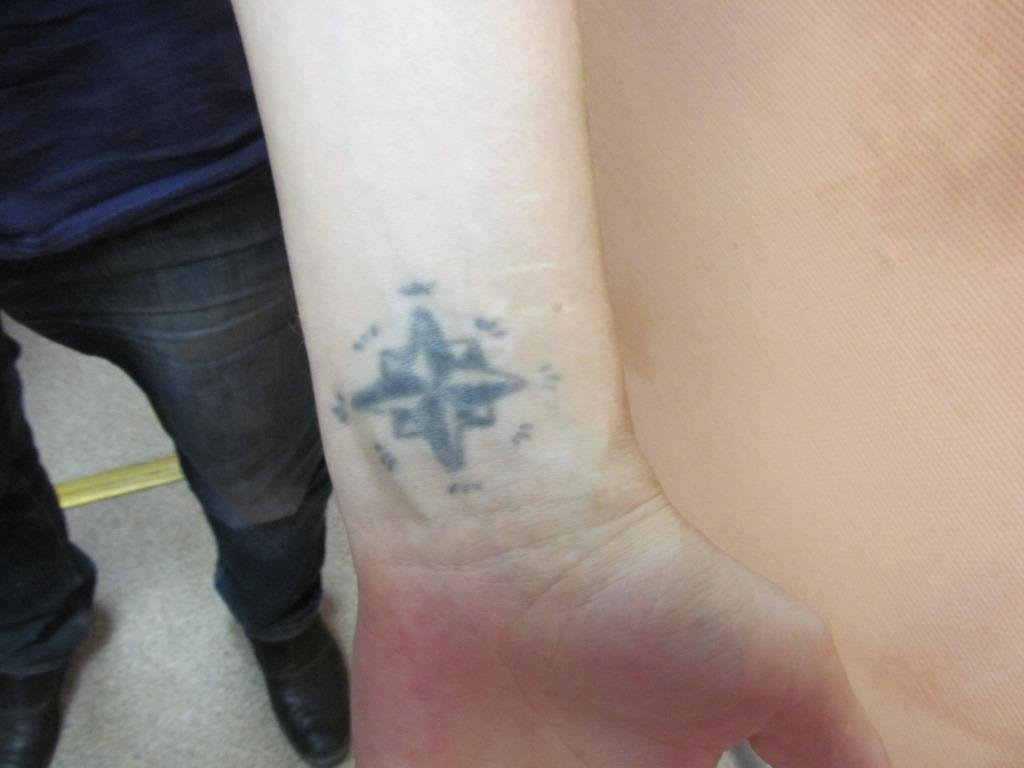tatu4_zvezda: (349, 305, 529, 476)
